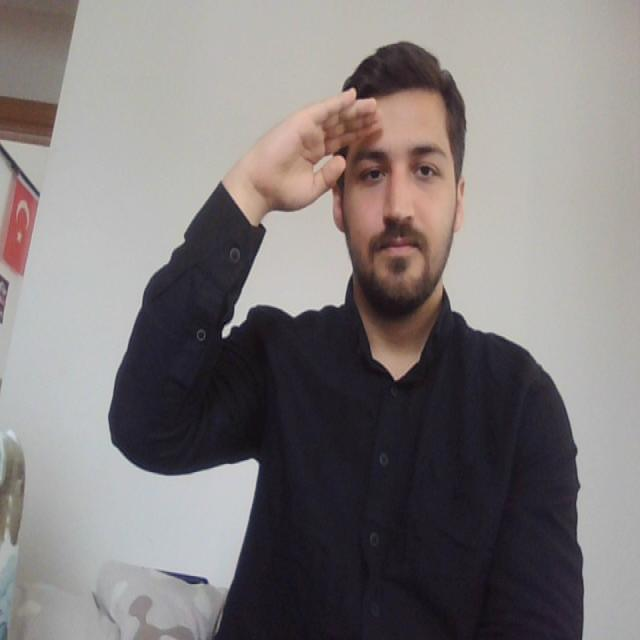Merhaba: (220, 45, 386, 238)
